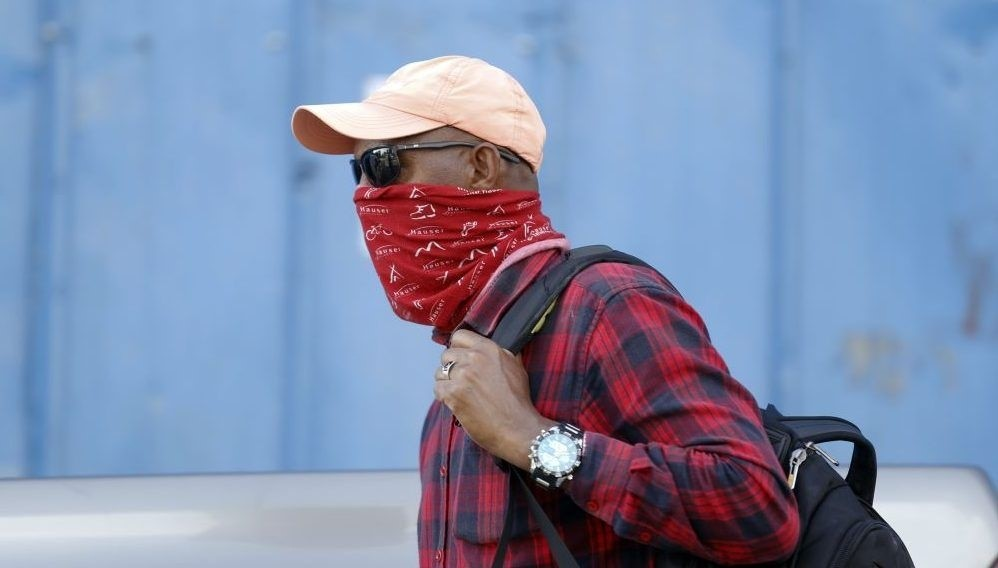face_with_mask: (336, 72, 531, 291)
